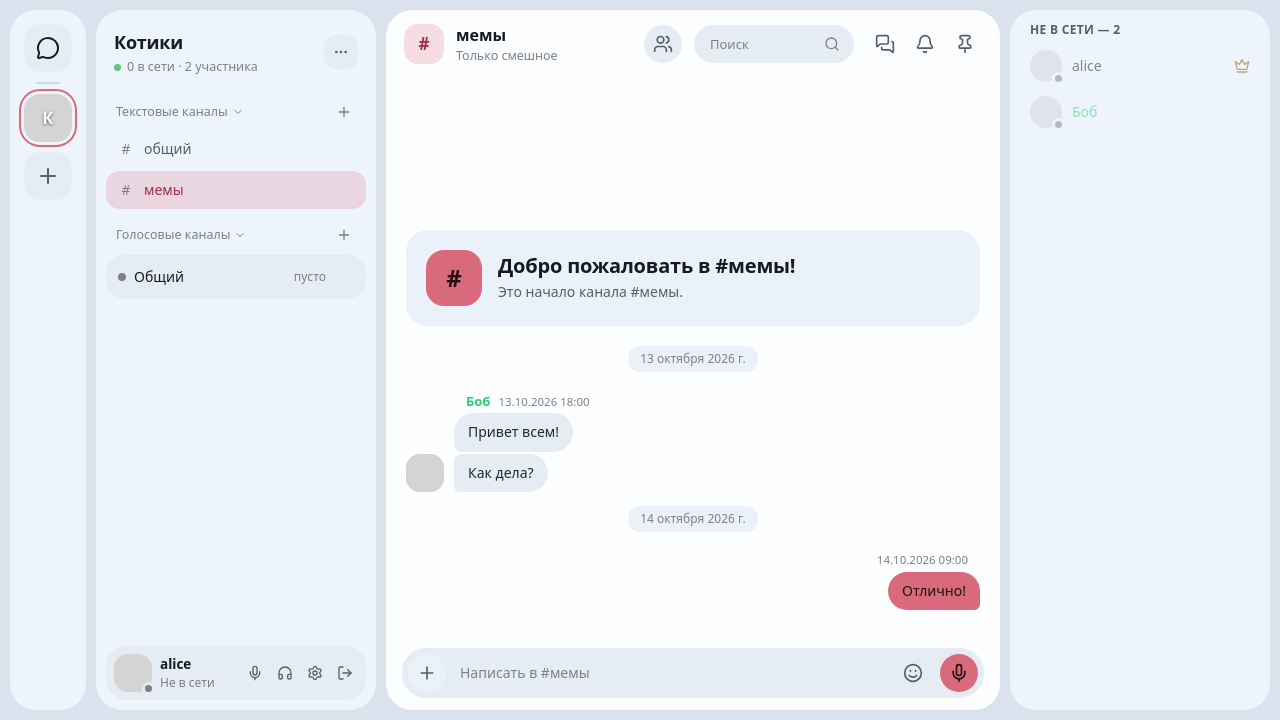
Test: searching a server › keeps results from age-restricted channels behind their consent
Type "кот" into the search field labelled "Поиск".
click(774, 44); type("кот")  # box top-left (694, 25), bottom-right (854, 63)
Then press Enter
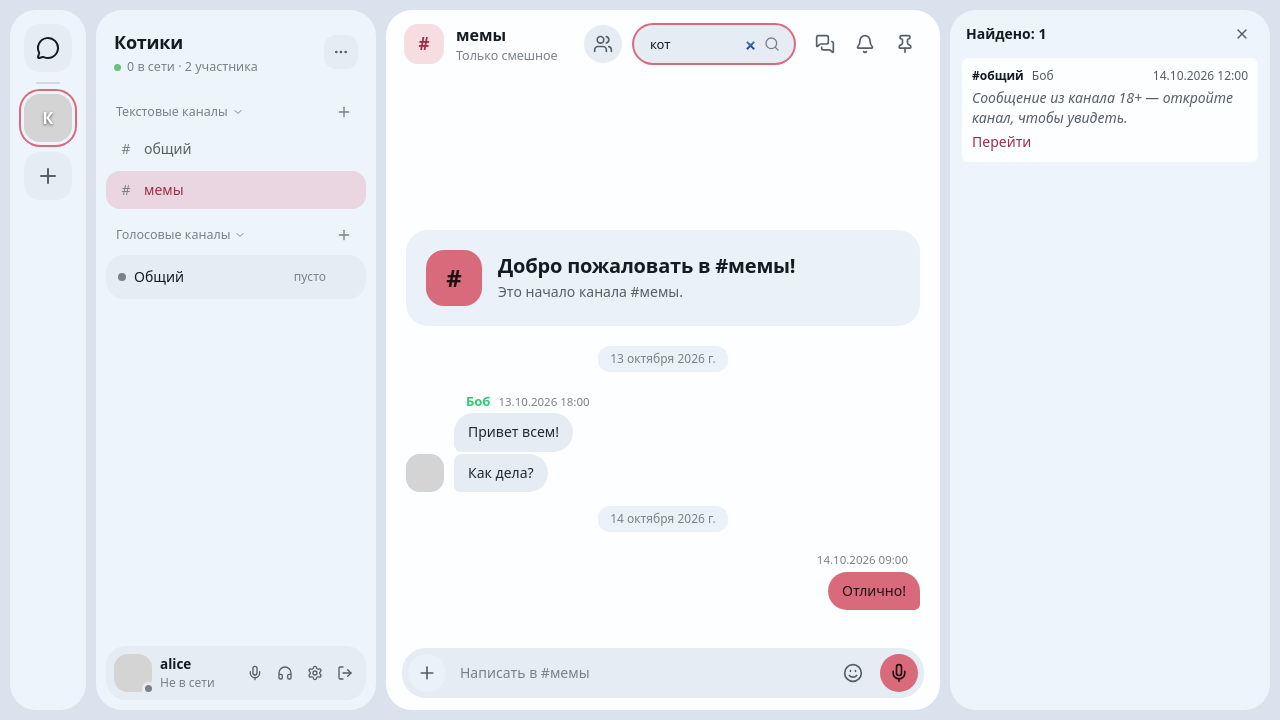
Now the text "Сообщение из канала 18+ — откройте канал, чтобы увидеть." is shown, box top-left (972, 88), bottom-right (1248, 128)
